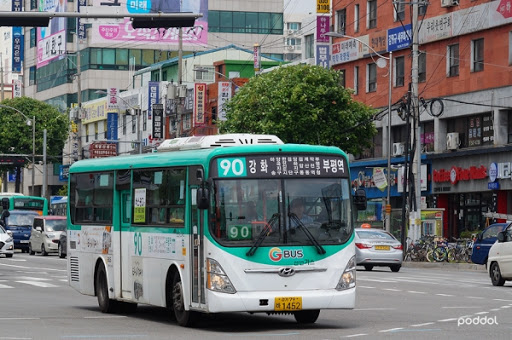bnum: (216, 158, 245, 176)
